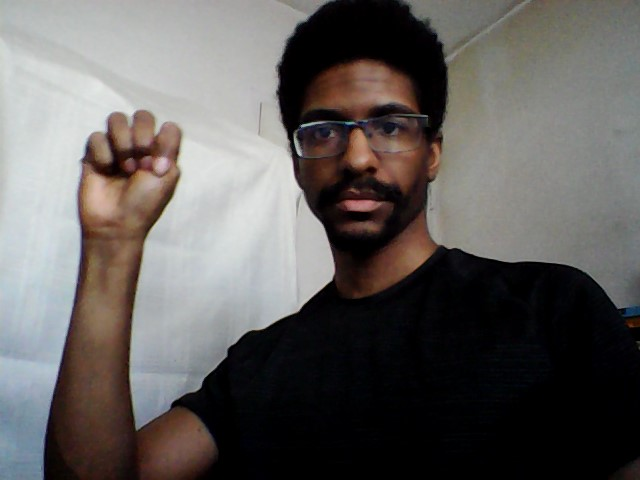m: (73, 106, 186, 244)
